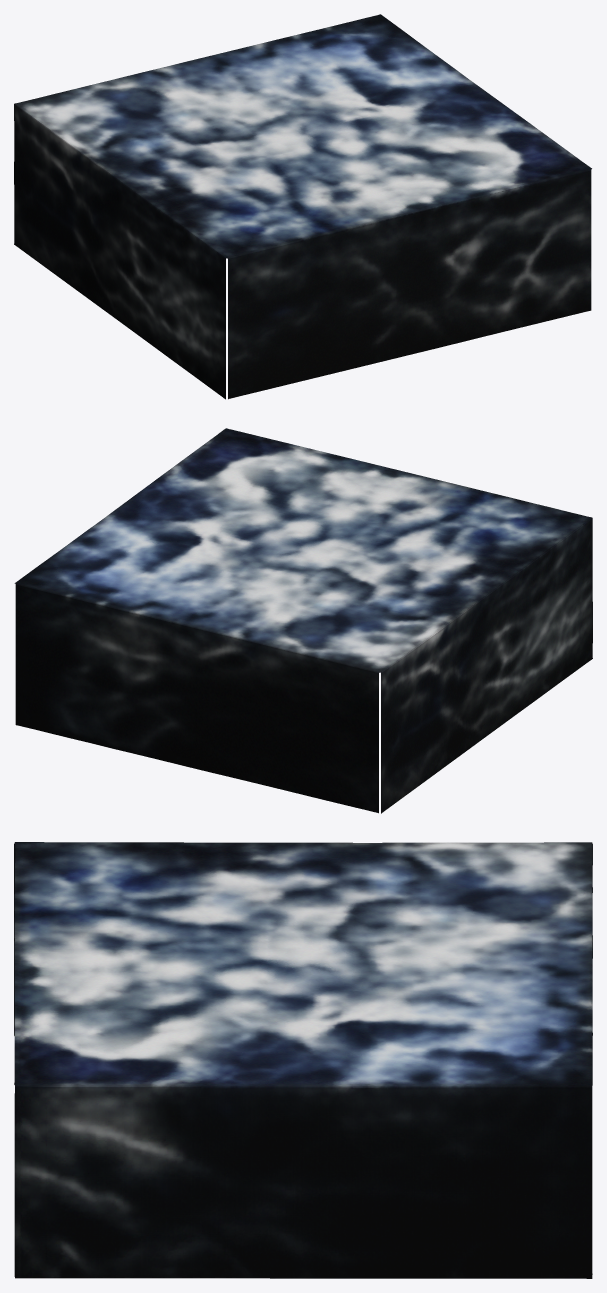
The model's file is trellis_result.glb.
The picture shows the model from 3 angles, top to bottom: view 1: azimuth 30°, elevation 25°; view 2: azimuth 150°, elevation 25°; view 3: azimuth 270°, elevation 25°; orthographic projection. The views are drawn at different scales.
Visible parts, largest first — view 1: world; view 2: world; view 3: world.
Boxes of the visible parts, x1,y1,x2,y2 form: world: [14, 14, 591, 399]; world: [14, 428, 592, 813]; world: [14, 842, 592, 1278].
Size of the model in its own units: 1 by 0.3692 by 1.
Materials: 1 (1 with a texture image).
